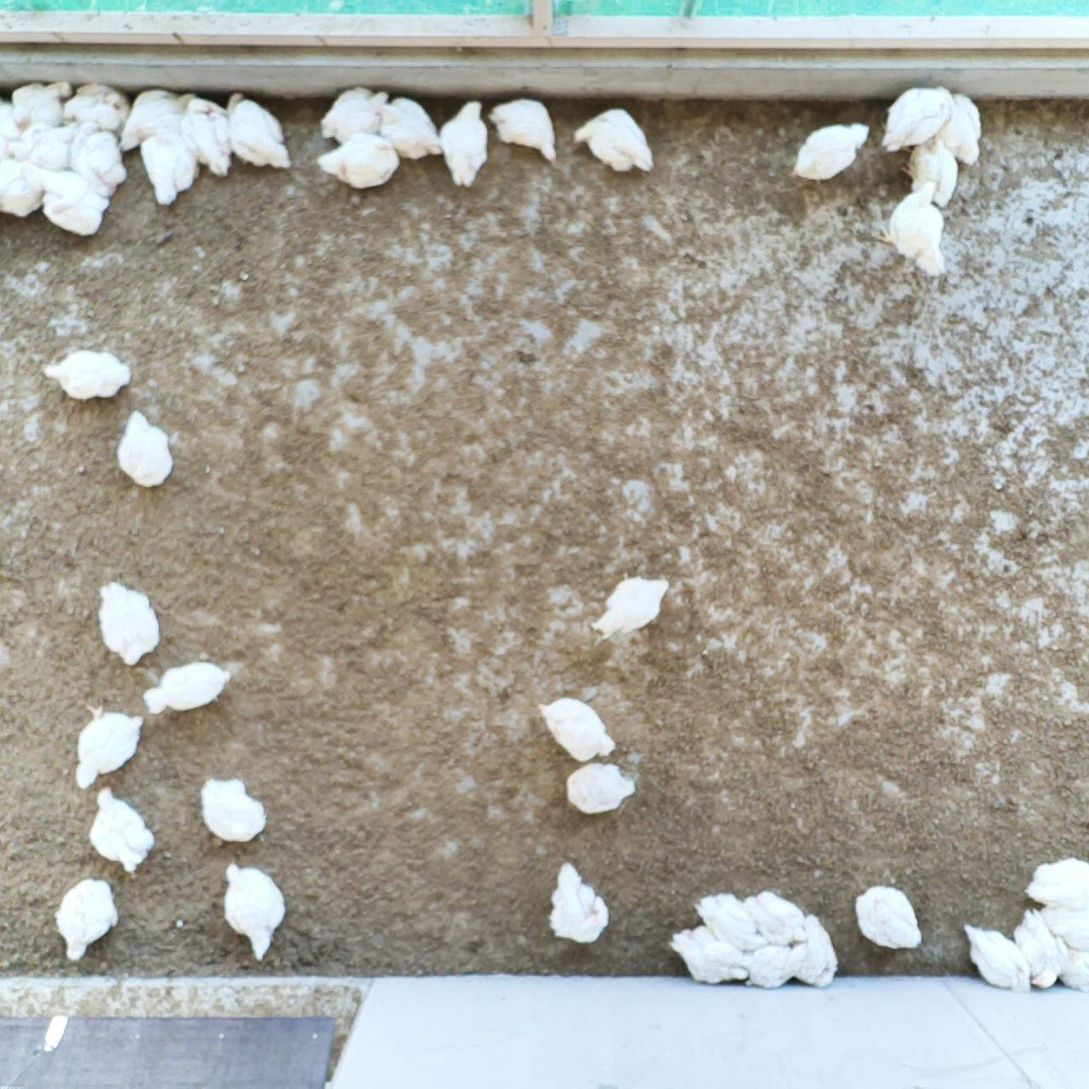chicken: (881, 174, 950, 276), (72, 700, 147, 793), (220, 858, 288, 959), (50, 875, 124, 962), (93, 577, 161, 666), (91, 783, 155, 876), (574, 107, 656, 179), (546, 858, 611, 947), (591, 568, 670, 641), (534, 696, 620, 763), (312, 128, 401, 189), (228, 89, 291, 174), (882, 83, 956, 155), (198, 773, 269, 848), (141, 661, 236, 717), (135, 121, 200, 202), (487, 95, 558, 169), (1006, 908, 1066, 995), (117, 91, 198, 154), (964, 921, 1032, 996), (792, 121, 871, 185), (37, 348, 133, 400), (852, 884, 926, 950), (673, 926, 751, 988), (117, 407, 172, 493), (67, 121, 128, 198), (41, 170, 109, 237), (439, 98, 490, 187), (374, 94, 440, 162), (902, 132, 960, 208), (565, 760, 639, 818), (181, 94, 233, 175), (696, 892, 768, 950), (319, 85, 386, 146), (792, 909, 840, 990), (64, 80, 130, 138), (747, 883, 804, 948), (940, 86, 983, 169), (10, 77, 71, 135), (13, 122, 81, 173), (1025, 855, 1089, 909), (730, 940, 802, 987), (1033, 897, 1089, 955), (1041, 929, 1089, 991), (0, 157, 44, 217), (0, 91, 30, 159)
